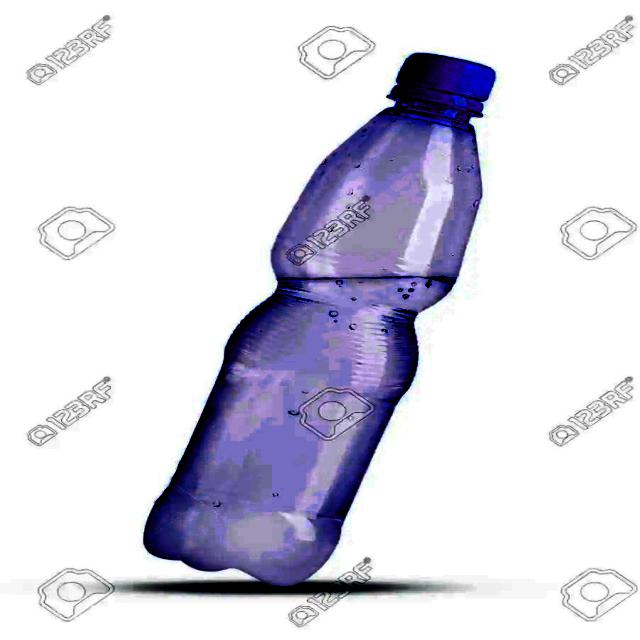half-bottle: (134, 46, 502, 603)
